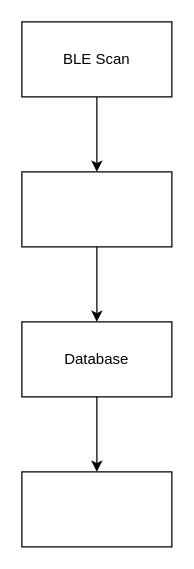
Some shapes in this 194 by 569 pixel diagram are drawn without their labels. The shapes that lost their labels are listed below. From the top down, each one's centre as x and y in pixels, then its label:
(x=96, y=209): Geolocation API
(x=96, y=509): User Interface
